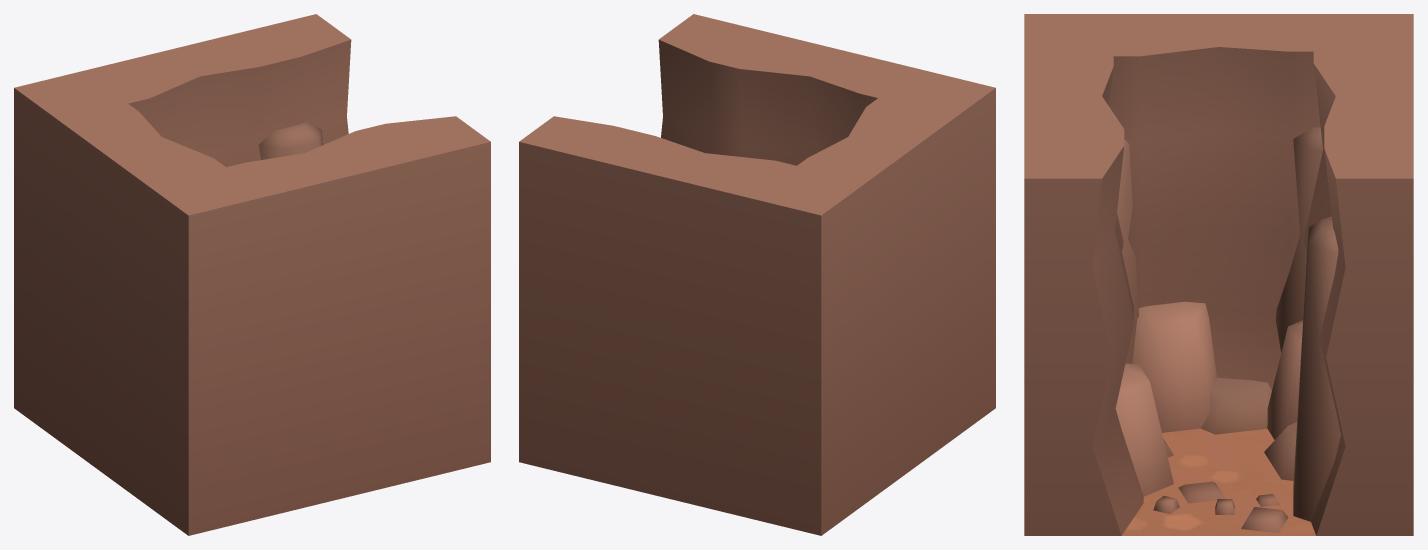
Rendered from corridor-end.glb.
3 views of the same model, side by side, from view 1: azimuth 30°, elevation 25°; view 2: azimuth 150°, elevation 25°; view 3: azimuth 270°, elevation 25° (orthographic). The views are drawn at different scales.
Visible parts, largest first — view 1: corridor-end; view 2: corridor-end; view 3: corridor-end.
Part boxes in pixels (left/top/right/bottom): corridor-end: left=14, top=14, right=490, bottom=535; corridor-end: left=519, top=14, right=995, bottom=535; corridor-end: left=1024, top=14, right=1413, bottom=535.
Bounding box in the file's own units: 4 × 4.05 × 4.
Materials: 1 (1 with a texture image).
